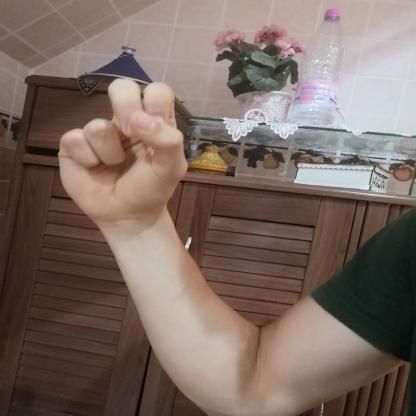QAAF: (35, 65, 213, 233)
